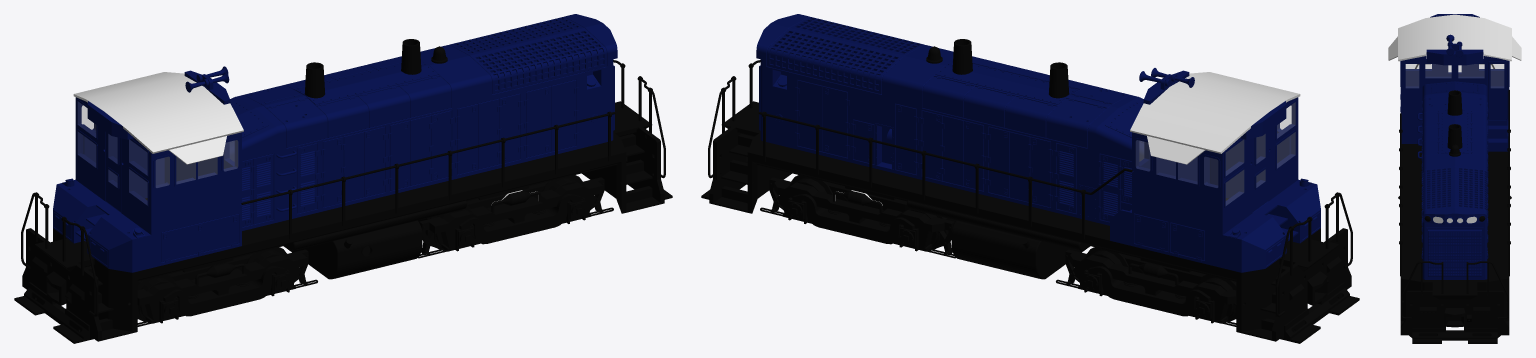
File: locomotive-sw1500.glb
The picture shows the model from 3 angles, left to right: view 1: azimuth 30°, elevation 25°; view 2: azimuth 150°, elevation 25°; view 3: azimuth 270°, elevation 25°; orthographic projection. The views are drawn at different scales.
Visible parts, largest first — view 1: Object_168, Object_54, Object_50, Object_58, Object_183, Object_46, Object_162, Object_156, Object_82, Object_12, Object_74, Object_170 (+12 smaller); view 2: Object_168, Object_54, Object_50, Object_58, Object_183, Object_46, Object_162, Object_156, Object_88, Object_70, Object_74, Object_170 (+13 smaller); view 3: Object_183, Object_168, Object_172, Object_162, Object_46, Object_156, Object_58, Object_170, Object_42, Object_54, Object_50, Object_160 (+13 smaller).
Boxes of the visible parts, left/top/right/bottom form: Object_168: left=53, top=97, right=241, bottom=272; Object_54: left=410, top=45, right=607, bottom=189; Object_50: left=229, top=95, right=410, bottom=230; Object_58: left=22, top=198, right=380, bottom=341; Object_183: left=366, top=101, right=664, bottom=221; Object_46: left=243, top=56, right=451, bottom=147; Object_162: left=73, top=72, right=243, bottom=153; Object_156: left=449, top=17, right=606, bottom=94; Object_82: left=419, top=177, right=604, bottom=254; Object_12: left=137, top=249, right=308, bottom=323; Object_74: left=284, top=220, right=422, bottom=279; Object_170: left=78, top=102, right=237, bottom=204; Object_168: left=1110, top=97, right=1320, bottom=272; Object_54: left=766, top=45, right=963, bottom=189; Object_50: left=963, top=95, right=1144, bottom=225; Object_58: left=993, top=198, right=1351, bottom=341; Object_183: left=709, top=101, right=1007, bottom=221; Object_46: left=922, top=56, right=1130, bottom=147; Object_162: left=1130, top=72, right=1300, bottom=153; Object_156: left=767, top=17, right=924, bottom=94; Object_88: left=769, top=177, right=954, bottom=254; Object_70: left=1065, top=249, right=1236, bottom=323; Object_74: left=951, top=220, right=1089, bottom=279; Object_170: left=1136, top=103, right=1295, bottom=205; Object_183: left=1400, top=192, right=1509, bottom=337; Object_168: left=1400, top=56, right=1509, bottom=151; Object_172: left=1422, top=207, right=1487, bottom=279; Object_162: left=1398, top=14, right=1511, bottom=61; Object_46: left=1422, top=95, right=1487, bottom=157; Object_156: left=1422, top=167, right=1487, bottom=212; Object_58: left=1401, top=144, right=1508, bottom=192; Object_170: left=1406, top=64, right=1503, bottom=87; Object_42: left=1412, top=328, right=1497, bottom=343; Object_54: left=1421, top=153, right=1488, bottom=258; Object_50: left=1421, top=81, right=1488, bottom=201; Object_160: left=1426, top=14, right=1483, bottom=65.
Size of the model in its own units: 13.35 by 4.67 by 3.58.
